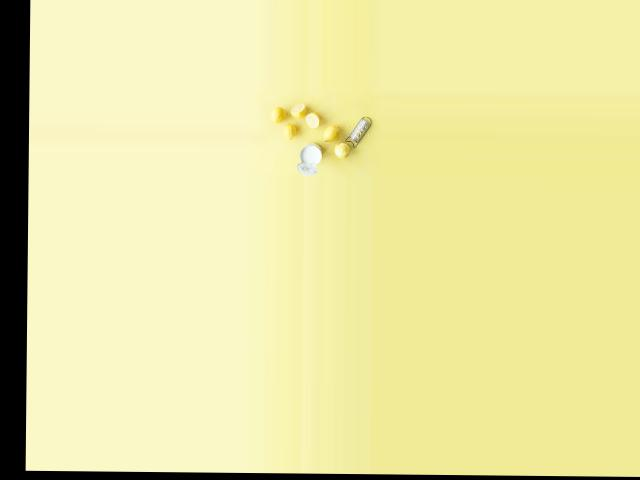lemon: (331, 139, 348, 159)
